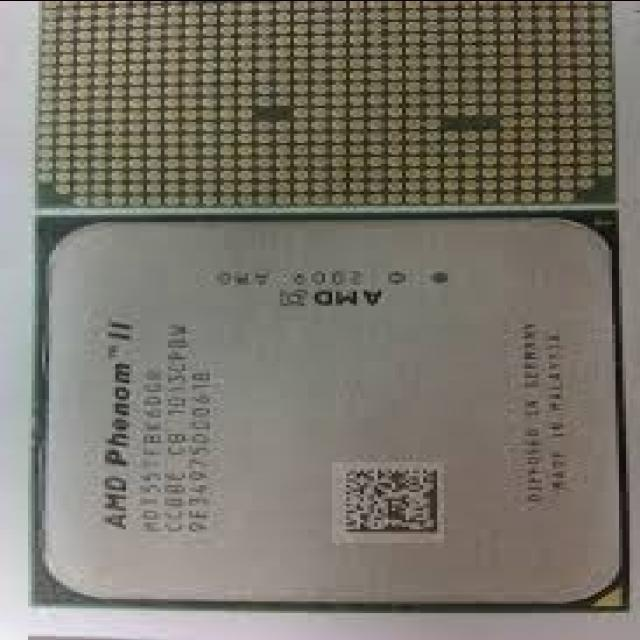Data-Matrix: (332, 461, 444, 542)
